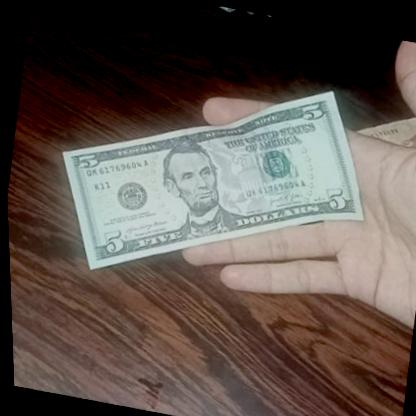five-front: (35, 36, 384, 317)
